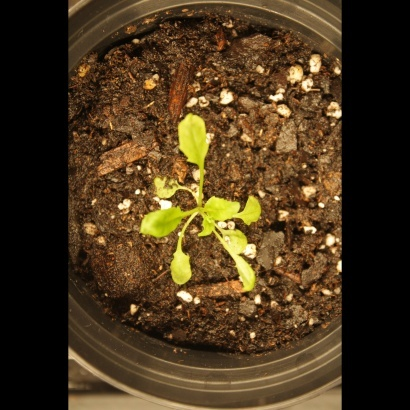leaf: (171, 107, 223, 178), (133, 203, 188, 242), (224, 244, 261, 299), (161, 244, 204, 286), (197, 190, 243, 228), (149, 166, 186, 201), (239, 191, 266, 229), (218, 225, 250, 254)
